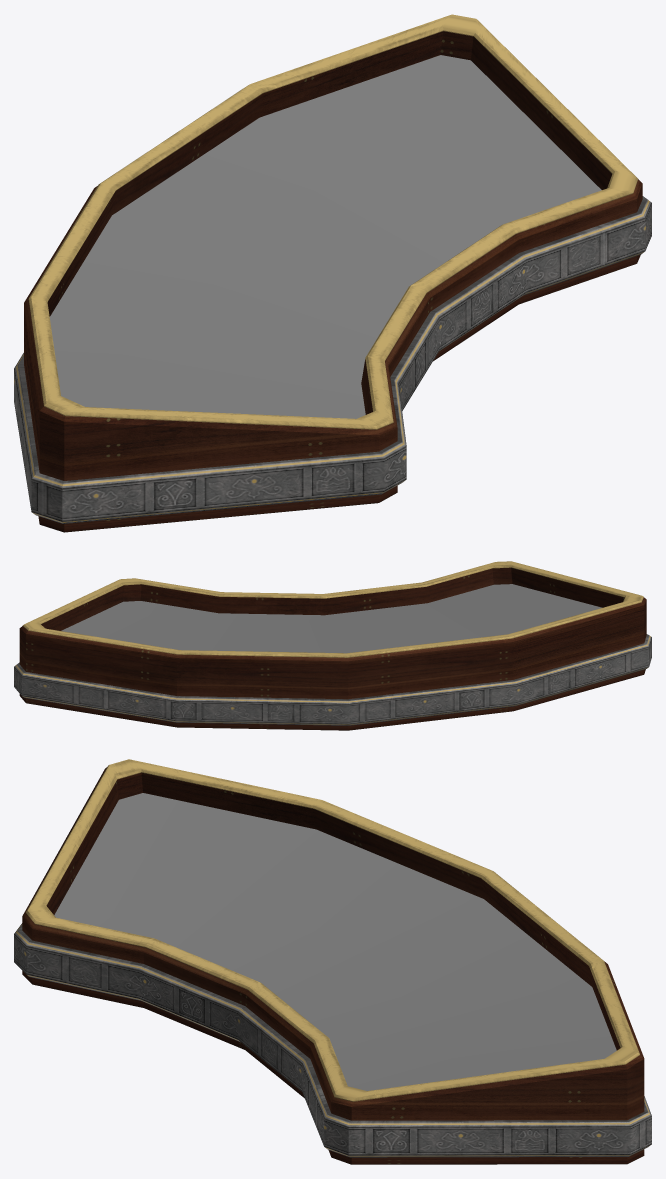
The model's file is garden 2.obj.
3 renders of one model, top to bottom at view 1: azimuth 30°, elevation 25°; view 2: azimuth 150°, elevation 25°; view 3: azimuth 270°, elevation 25°, orthographic. The views are drawn at different scales.
Parts seen in each view (by area): view 1: pCylinder39group35 GARDEN_2, GARDEN_2 pCylinder39group36; view 2: GARDEN_2 pCylinder39group36, pCylinder39group35 GARDEN_2; view 3: pCylinder39group35 GARDEN_2, GARDEN_2 pCylinder39group36.
Part boxes in pixels (x1,y1,x2,y2): pCylinder39group35 GARDEN_2: [49, 55, 601, 418]; GARDEN_2 pCylinder39group36: [14, 14, 651, 532]; GARDEN_2 pCylinder39group36: [14, 561, 651, 730]; pCylinder39group35 GARDEN_2: [61, 584, 602, 653]; pCylinder39group35 GARDEN_2: [54, 793, 616, 1090]; GARDEN_2 pCylinder39group36: [14, 759, 651, 1164].
Bounding box in the file's own units: 40.61 × 6.2 × 35.03.
